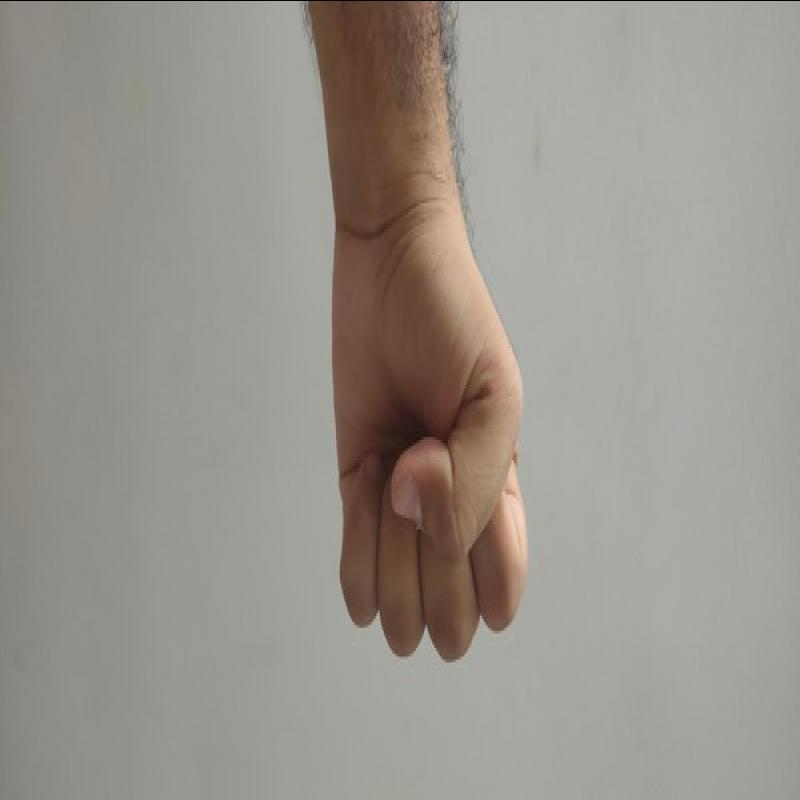Mushti: (307, 187, 549, 686)
